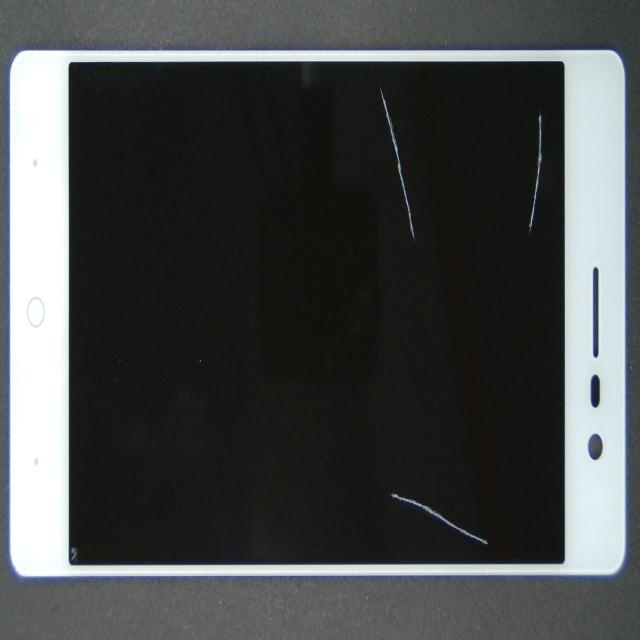scratch: (169, 0, 578, 203)
